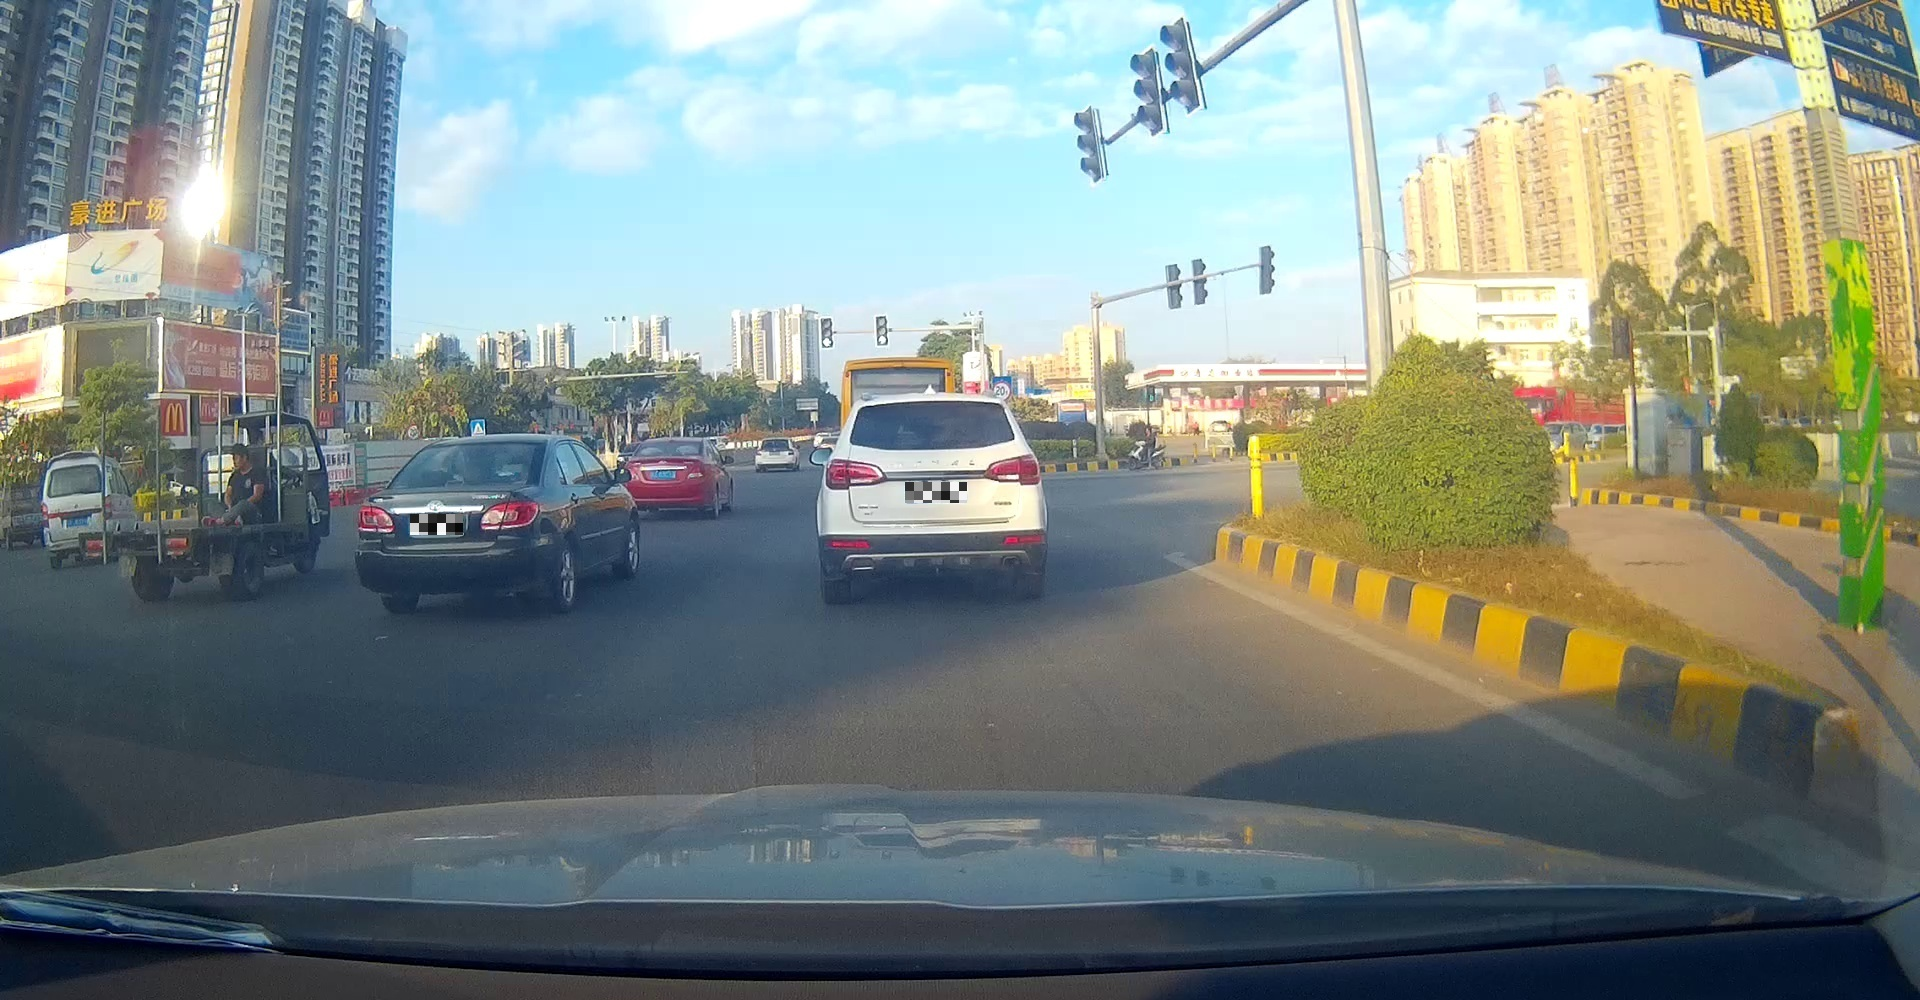L_light: (825, 459, 888, 490), (357, 505, 395, 534)
R_light: (479, 499, 538, 530), (983, 454, 1041, 485)
T_light: (909, 401, 963, 406), (444, 480, 467, 486)
day-no: (817, 390, 1048, 603), (354, 433, 557, 613)
plate_1: (410, 514, 463, 536)
plate_2: (905, 482, 968, 503)
